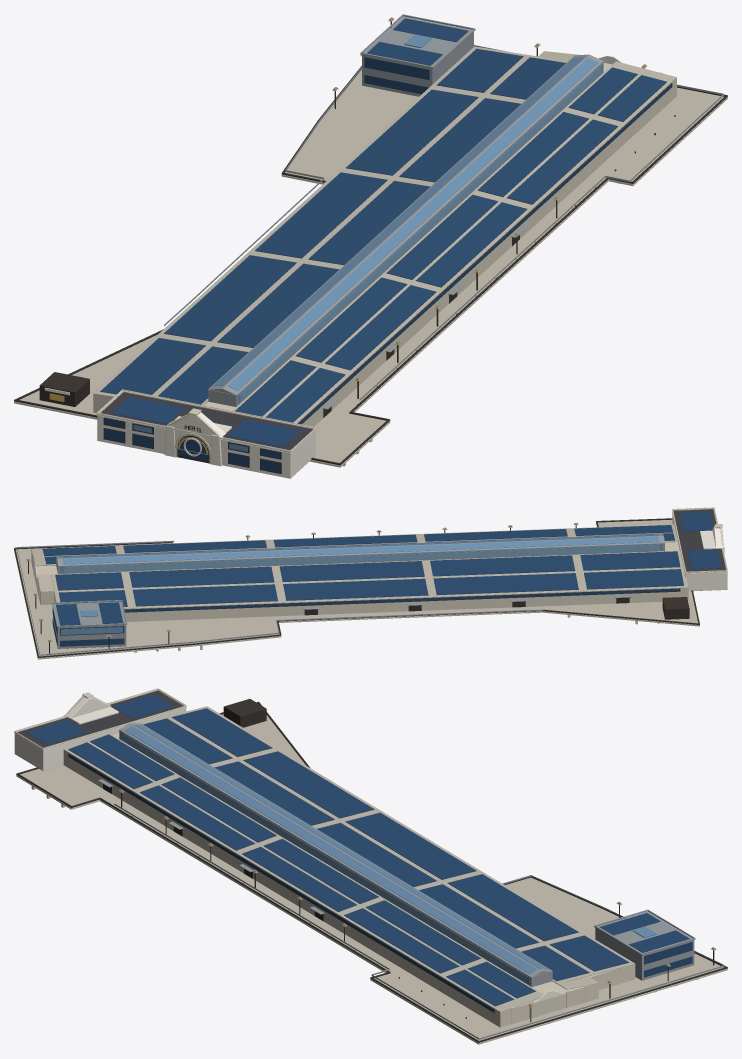
Rendered from pier-15.glb.
The picture shows the model from 3 angles, top to bottom: view 1: azimuth 30°, elevation 25°; view 2: azimuth 150°, elevation 25°; view 3: azimuth 270°, elevation 25°; orthographic projection. The views are drawn at different scales.
Visible parts, largest first — view 1: deck_surface, roof_nw_w, roof_se, monitor_capglass_se, shed_w, pv_a3, pv_a2, pv_a1, monitor_cap, pv_b3, pv_b1, pv_b2 (+31 smaller); view 2: deck_surface, shed_w, roof_nw_w, monitor_capglass_nw, monitor_glow_nw, pv_a3, pv_a2, pv_a1, monitor_cap, pv_b1, pv_b3, pv_b2 (+32 smaller); view 3: deck_surface, shed_w, roof_se, roof_nw_w, monitor_capglass_se, monitor_cap, pv_a3, pv_a2, pv_a1, monitor_glow_se, curb, obs (+32 smaller).
Part boxes in pixels (x1,y1,x2,y2): deck_surface: (19,69,723,462); roof_nw_w: (93,46,567,405); roof_se: (232,61,676,423); monitor_capglass_se: (227,58,597,390); shed_w: (93,85,668,426); pv_a3: (346,89,478,175); pv_a2: (255,172,387,258); pv_a1: (164,255,296,341); monitor_cap: (208,54,603,394); pv_b3: (399,98,521,182); pv_b1: (217,263,339,347); pv_b2: (308,181,429,264); deck_surface: (15,519,697,656); shed_w: (49,542,688,621); roof_nw_w: (51,550,688,609); monitor_capglass_nw: (62,536,659,564); monitor_glow_nw: (63,545,659,572); pv_a3: (133,584,277,606); pv_a2: (283,578,428,600); pv_a1: (433,573,578,595); monitor_cap: (56,533,664,566); pv_b1: (430,555,575,576); pv_b3: (129,566,274,587); pv_b2: (279,561,424,581); deck_surface: (20,714,723,1040); shed_w: (63,733,635,1021); roof_se: (63,733,543,1012); roof_nw_w: (141,706,635,983); monitor_capglass_se: (124,726,536,973); monitor_cap: (119,723,552,977); pv_a3: (447,874,578,941); pv_a2: (345,812,476,879); pv_a1: (243,751,374,818); monitor_glow_se: (122,733,527,982); curb: (16,701,727,1042); obs: (595,911,694,980).
Size of the model in its own units: 249 by 16.4 by 221.
